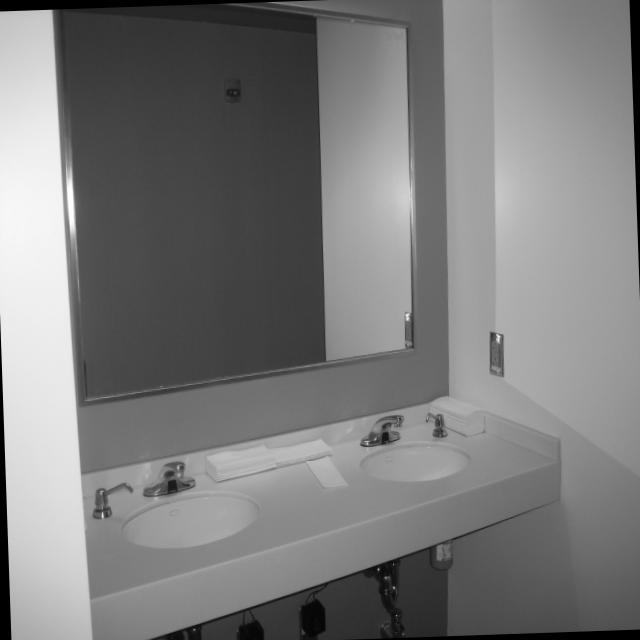mirror crop: (53, 2, 416, 408)
